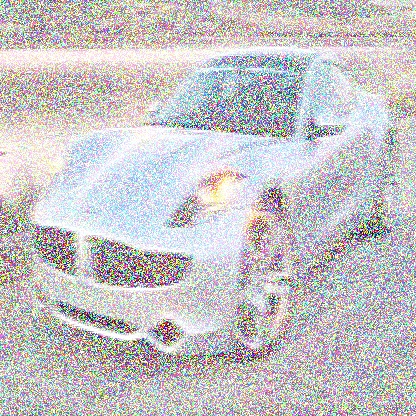Vehicle: (24, 41, 402, 370)
